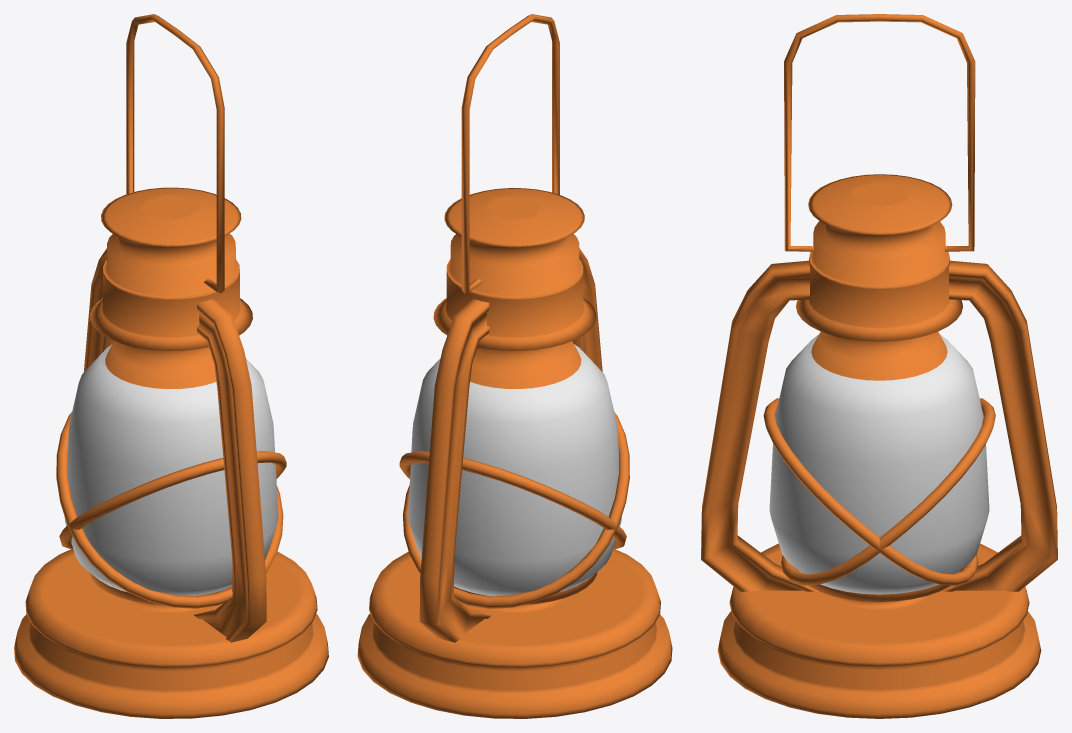
The model's file is lampara.fbx.
3 views of the same model, side by side, from view 1: azimuth 30°, elevation 25°; view 2: azimuth 150°, elevation 25°; view 3: azimuth 270°, elevation 25° (orthographic). The views are drawn at different scales.
Parts seen in each view (by area): view 1: Circle; view 2: Circle; view 3: Circle.
Part boxes in pixels (left/top/right/bottom): Circle: left=14, top=14, right=328, bottom=718; Circle: left=357, top=14, right=672, bottom=718; Circle: left=701, top=14, right=1057, bottom=718.
Size of the model in its own units: 200 by 436 by 221.
